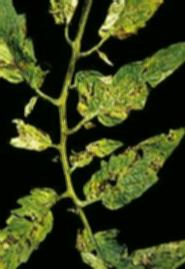Tomato Septoria leaf spot: (67, 35, 185, 129), (83, 122, 185, 212), (0, 0, 54, 99), (0, 185, 60, 269), (93, 0, 185, 39), (114, 235, 185, 269)
